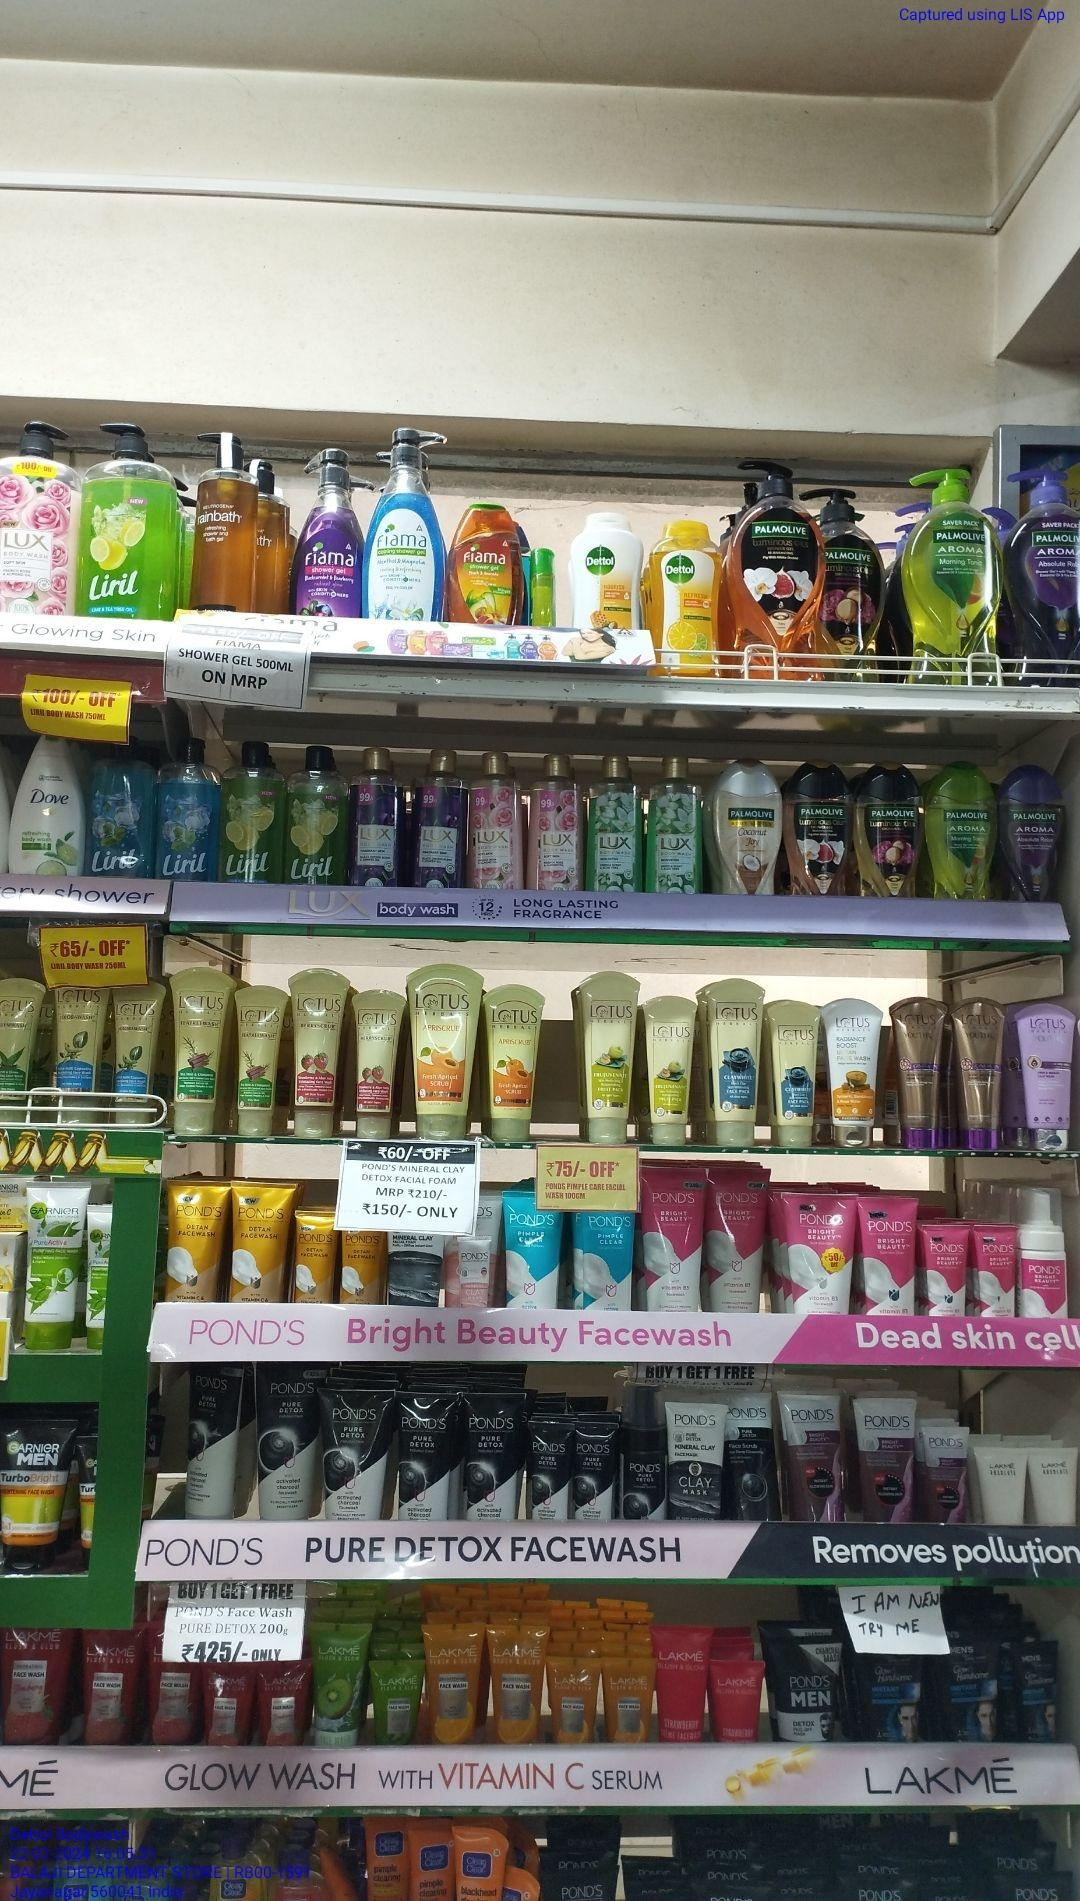Dettol_Bodywash_Refresh: (654, 524, 725, 682)
Dettol_Nourish_Body_Wash_250ML: (568, 509, 644, 633)
Dove_Refreshing_Body_Wash_250ML: (8, 731, 85, 876)
Fiama_Shower_Gel_Peach_and_Avocado_250ML: (445, 501, 521, 623)
Liril_Cooling_Mint_Body_Wash_250ML: (85, 744, 150, 872), (157, 747, 217, 884)
Liril_Lime_and_Tea_Tree_Oil_Body_Wash_250ML: (285, 744, 347, 888), (225, 744, 279, 887)
Lux_Black_Orchid_Scent_and_Juniper_Oil_Body_Wash_245ML: (407, 755, 468, 889), (355, 742, 402, 890)
Lux_Body_Wash_Skin_Detox_Freesia_Scent_and_Alove_Vera_245ML: (590, 753, 644, 897), (652, 746, 701, 897)
Palmolive_Aroma_Morning_Tonic_Shower_Gel_250ML: (923, 759, 994, 902)
Palmolive_Aroma_Relax_250ML: (1007, 762, 1063, 901)
Palmolive_Coconut_Joy_Exfoliating_Body_Wash_250ML: (716, 762, 781, 896)
Palmolive_Luminous_Oils_Invigorating_Macadamia_Oil_With_Peony_250ML: (862, 760, 922, 898)
Palmolive_Luminous_Oils_With_White_Orchid_Shower_Gel_250ML: (786, 761, 851, 896)
